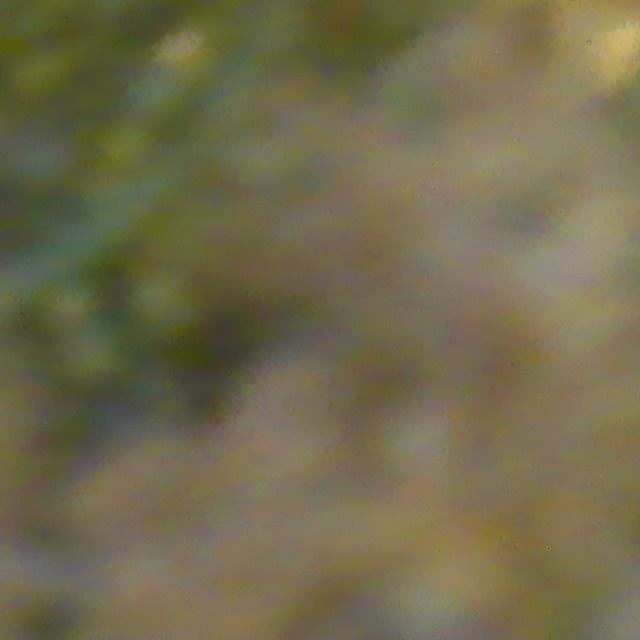SeaGrape: (127, 264, 210, 346)
